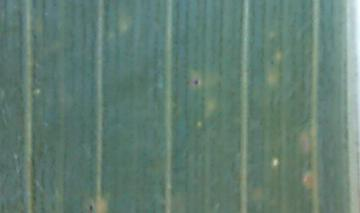tarspot: (29, 1, 40, 10), (191, 78, 200, 86), (87, 204, 94, 212), (268, 59, 274, 66)
